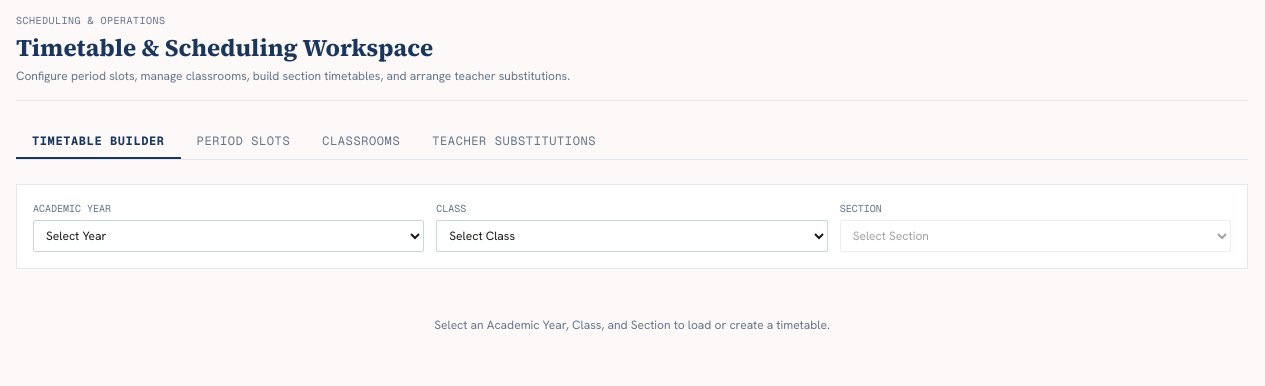
Test case: TimetablePage Component › renders substitutions table with data
This screenshot has width=1265, height=386.
Click the button "Teacher Substitutions": (514, 142) [416, 125, 612, 159]
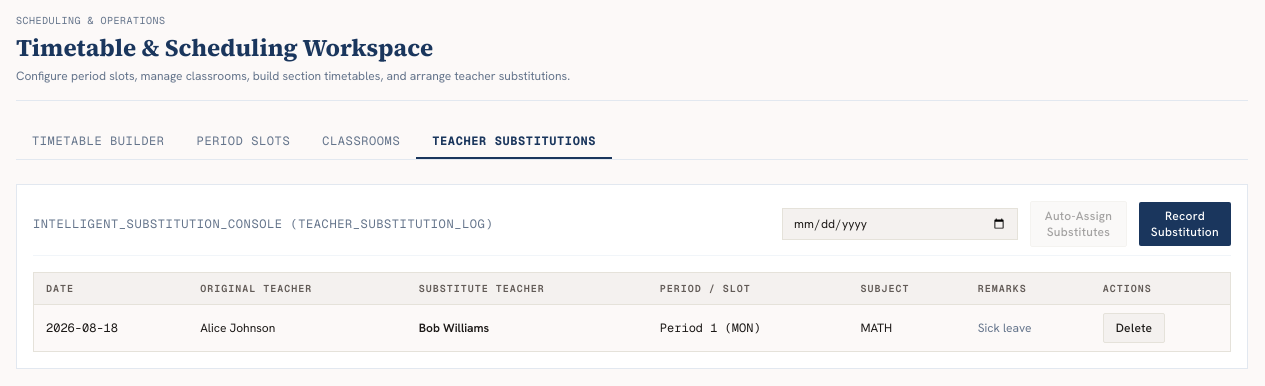
expect the text "2026-08-18" is shown: met, box [46, 320, 118, 336]
expect the text "Alice Johnson" is shown: met, box [200, 320, 275, 336]
expect the text "Bob Williams" is shown: met, box [419, 320, 489, 336]
